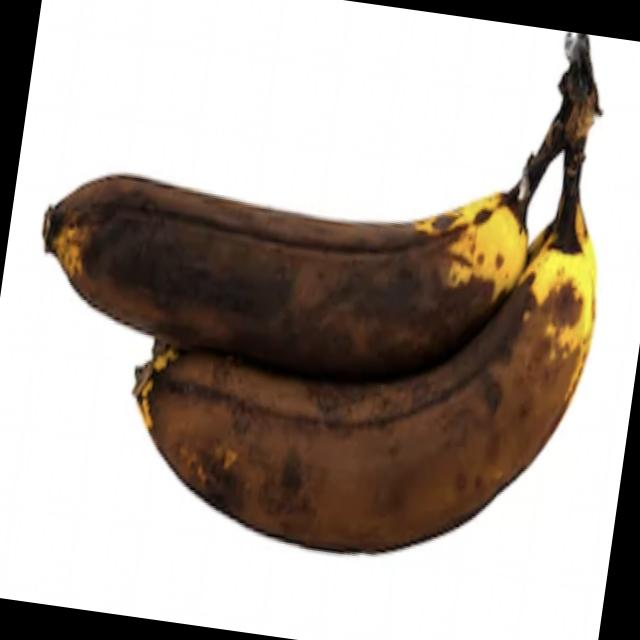rotten-banana: (32, 24, 638, 392), (116, 309, 607, 589)
